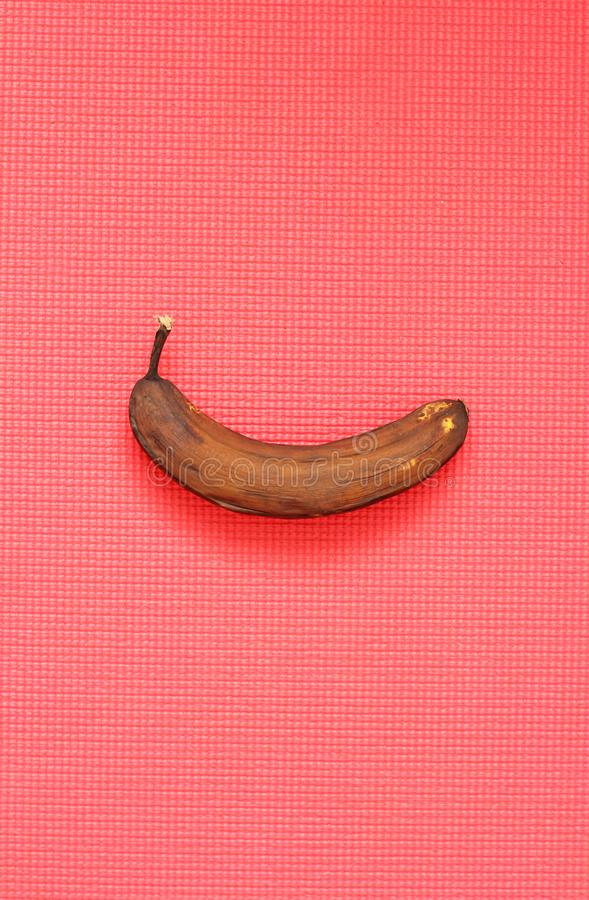looks_defective: (57, 264, 499, 678)
